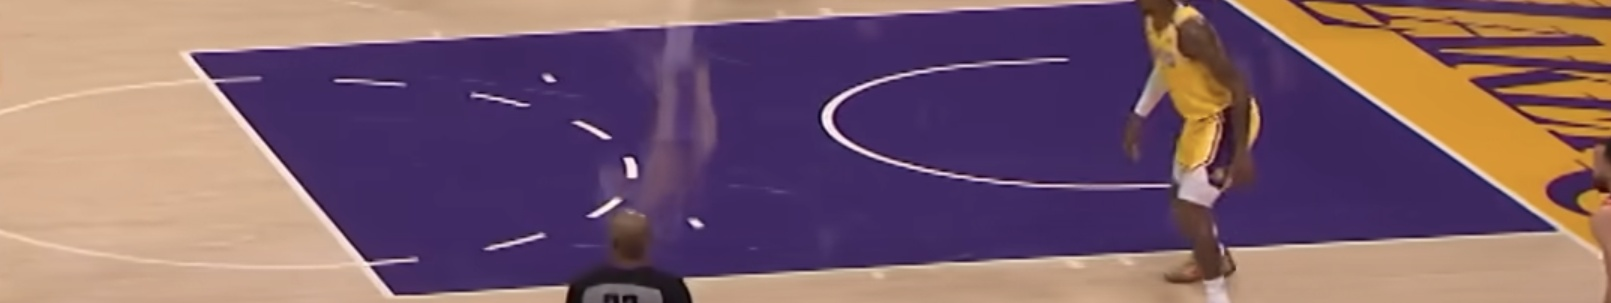endLine: (1233, 2, 1565, 231)
freeThrow: (186, 51, 391, 299)
lane: (391, 231, 1565, 297), (186, 1, 1165, 49)
